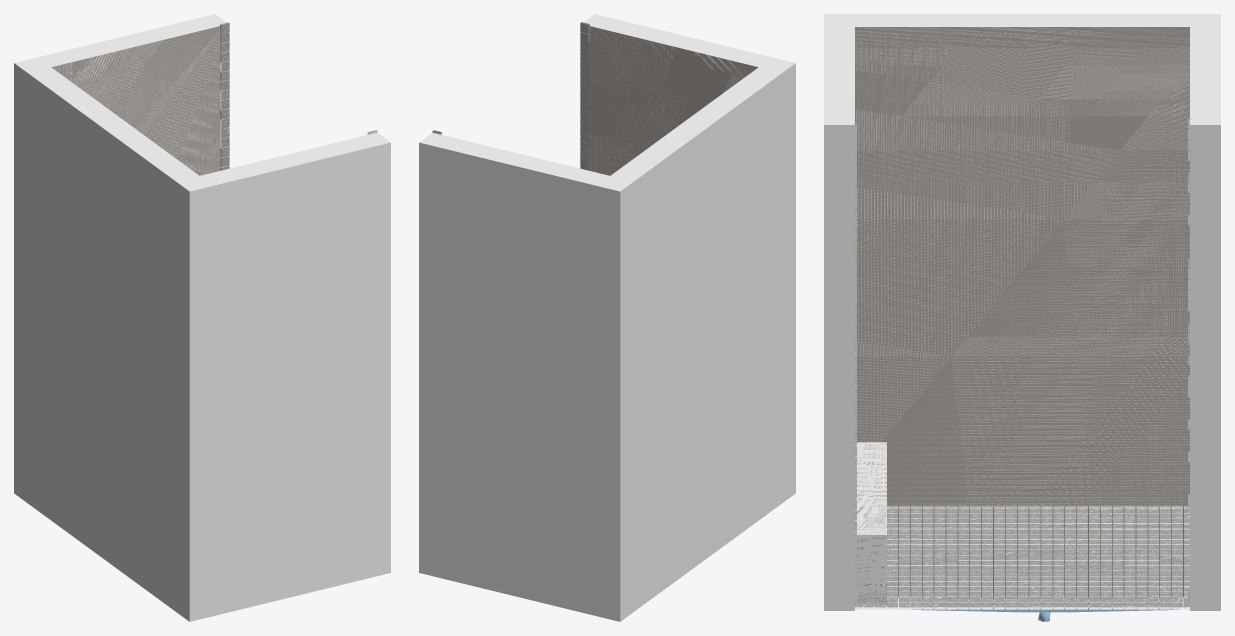
Rendered from shower.fbx.
The picture shows the model from 3 angles, left to right: view 1: azimuth 30°, elevation 25°; view 2: azimuth 150°, elevation 25°; view 3: azimuth 270°, elevation 25°; orthographic projection. The views are drawn at different scales.
Visible parts, largest first — view 1: group_56; view 2: group_56; view 3: group_56.
Part boxes in pixels (x1=…): group_56: x1=14, y1=14, x2=390, y2=621; group_56: x1=419, y1=14, x2=795, y2=621; group_56: x1=824, y1=14, x2=1220, y2=621.
Bounding box in the file's own units: 119 × 253 × 180.
Materials: 1 (1 with a texture image).
